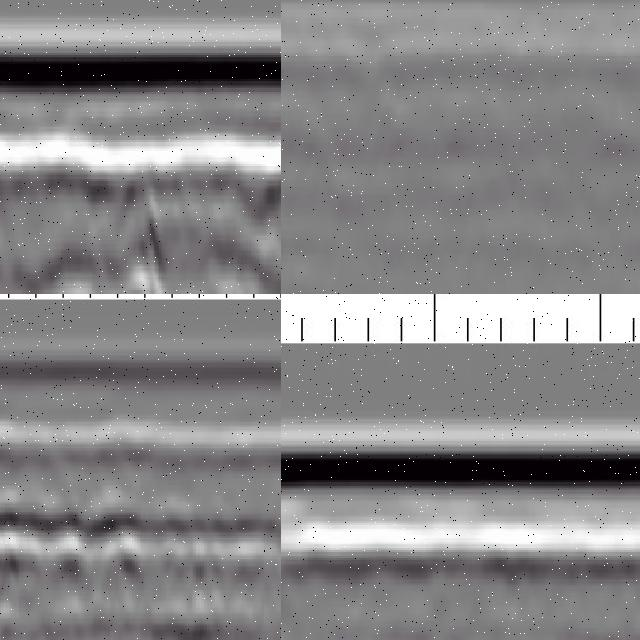loose: (25, 132, 282, 295), (1, 496, 158, 640)
